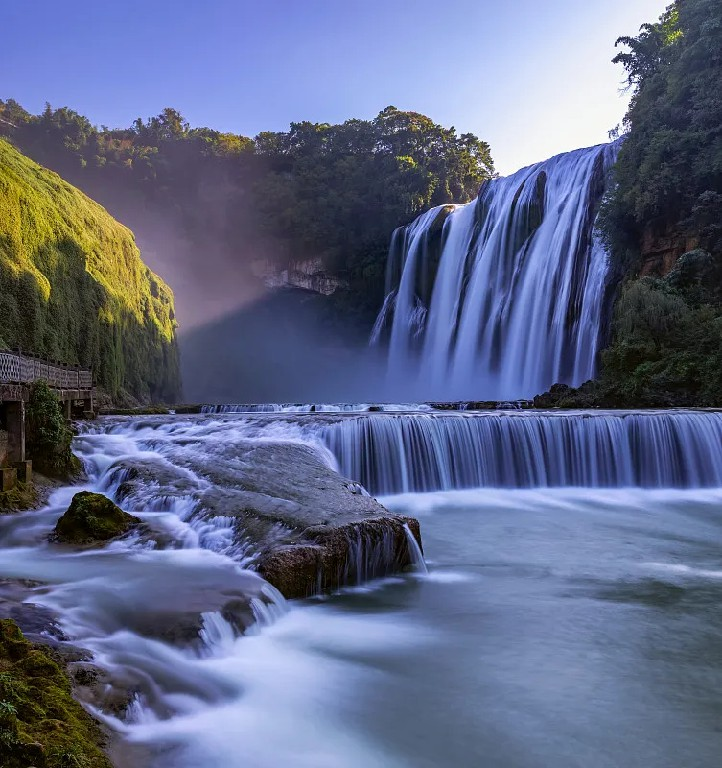Huangguoshu: (365, 141, 621, 401)
